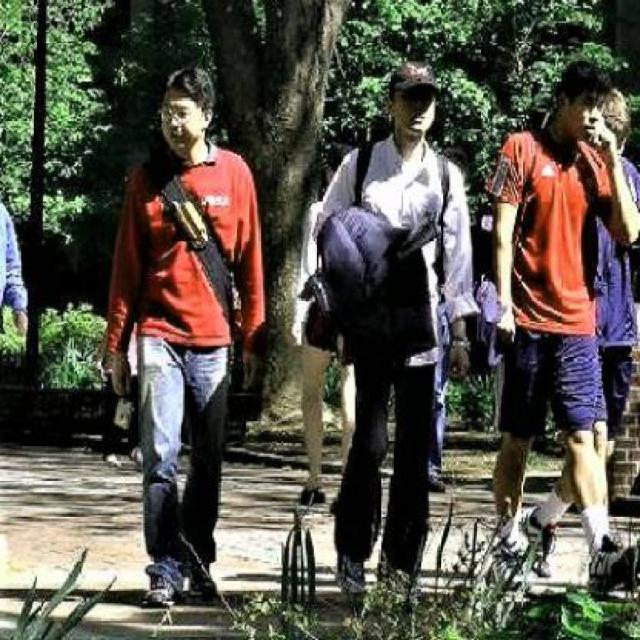Person: (101, 58, 268, 610), (319, 54, 470, 595), (494, 55, 638, 600)
